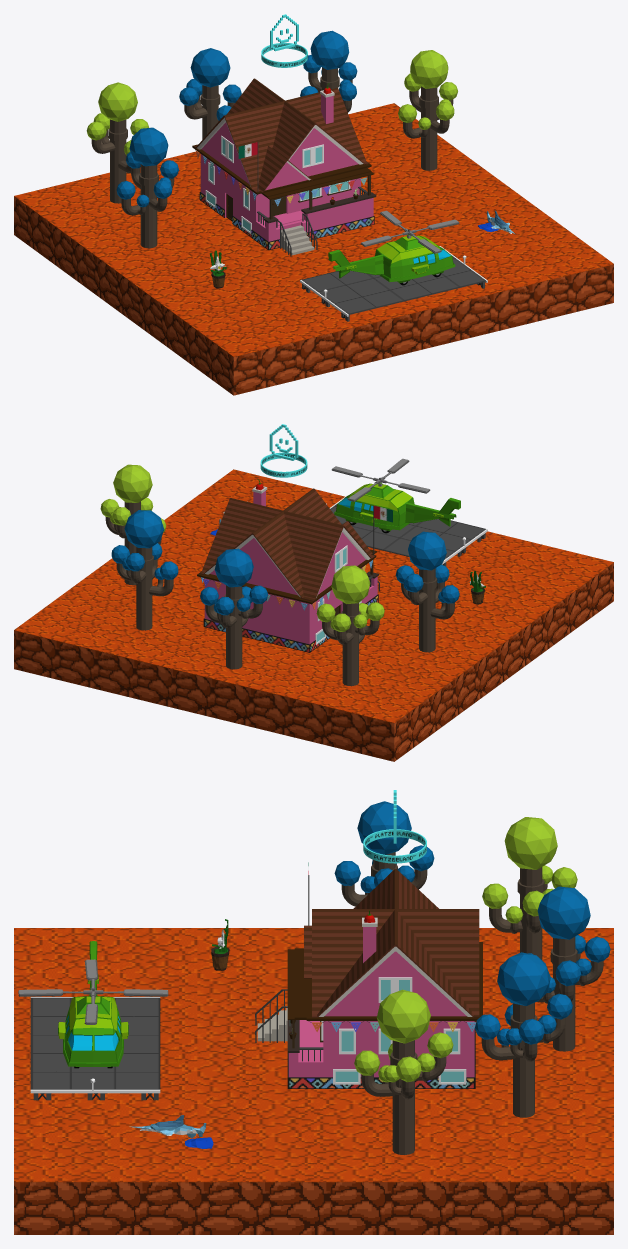
3 renders of one model, top to bottom at view 1: azimuth 30°, elevation 25°; view 2: azimuth 150°, elevation 25°; view 3: azimuth 270°, elevation 25°, orthographic. The views are drawn at different scales.
Parts seen in each view (by area): view 1: Cube.001, Cube.1005, VEHICLES_HELICOPTER, TYPE_PREMIUM; view 2: Cube.001, Cube.1005, VEHICLES_HELICOPTER, TYPE_PREMIUM; view 3: Cube.001, Cube.1005, VEHICLES_HELICOPTER, TYPE_PREMIUM, ANIMAL_PEZ_ESPADA.
Part boxes in pixels (x1,y1,x2,y2): Cube.001: (14,30,613,395); Cube.1005: (192,78,376,256); VEHICLES_HELICOPTER: (328,210,459,285); TYPE_PREMIUM: (261,14,307,67); Cube.001: (14,464,613,761); Cube.1005: (197,479,392,652); VEHICLES_HELICOPTER: (331,458,460,533); TYPE_PREMIUM: (260,424,307,477); Cube.001: (14,801,613,1234); Cube.1005: (255,862,482,1088); VEHICLES_HELICOPTER: (18,941,168,1068); TYPE_PREMIUM: (363,790,426,863); ANIMAL_PEZ_ESPADA: (129,1115,213,1148).
Size of the model in its own units: 4000 by 2410 by 4000.
Materials: 75 (7 with a texture image).
